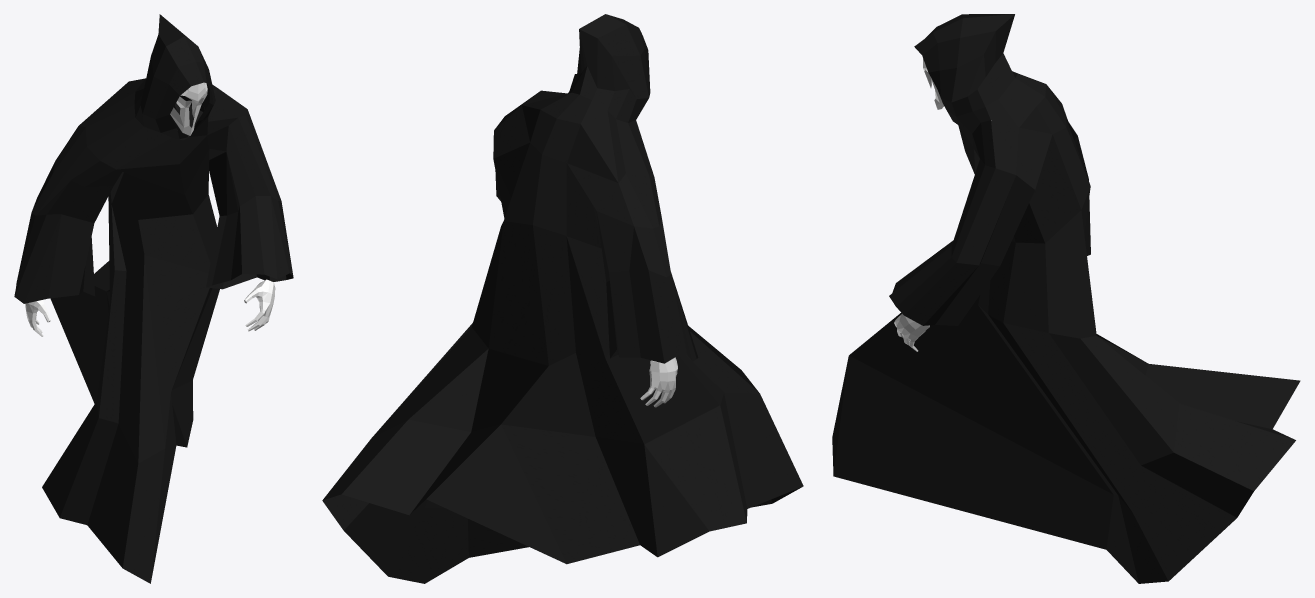
File: ReaperWalk(34).obj
3 views of the same model, side by side, from view 1: azimuth 30°, elevation 25°; view 2: azimuth 150°, elevation 25°; view 3: azimuth 270°, elevation 25° (orthographic). The views are drawn at different scales.
Visible parts, largest first — view 1: Plane003; view 2: Plane003; view 3: Plane003.
Part boxes in pixels (bbox=[...]): Plane003: bbox=[14, 14, 293, 583]; Plane003: bbox=[322, 14, 803, 583]; Plane003: bbox=[832, 14, 1300, 583].
Bounding box in the file's own units: 108 × 201 × 162.
